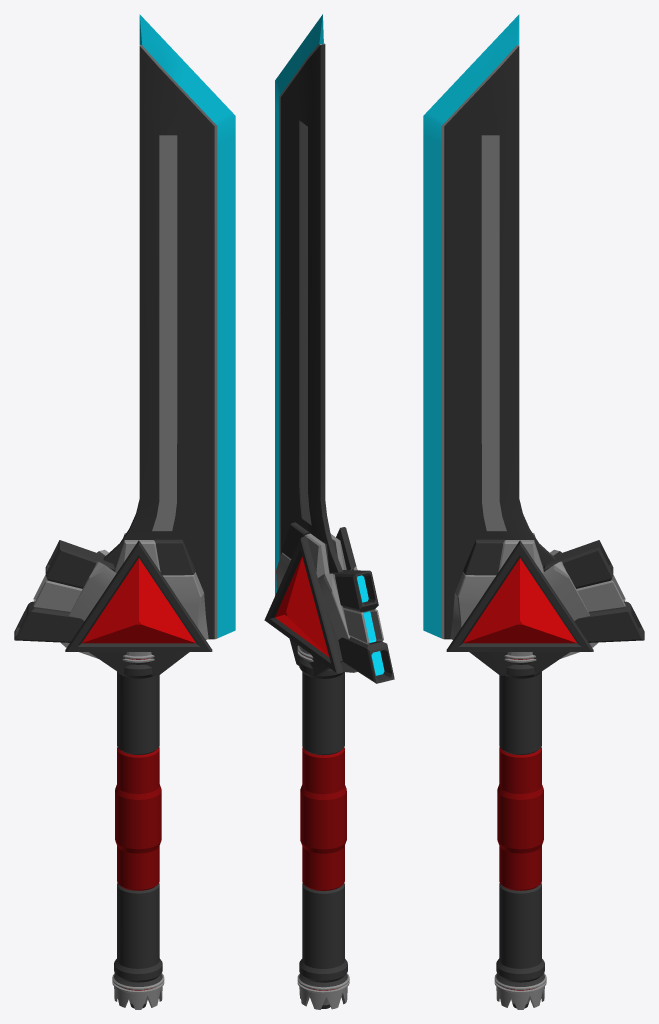
The model's file is Dominion Blade_Short.fbx.
The picture shows the model from 3 angles, left to right: view 1: azimuth 90°, elevation 25°; view 2: azimuth 210°, elevation 25°; view 3: azimuth 270°, elevation 25°; orthographic projection.
Visible parts, largest first — view 1: Cube.000, Cylinder.001; view 2: Cube.000, Cylinder.001; view 3: Cube.000, Cylinder.001.
Boxes of the visible parts, left/top/right/bottom form: Cube.000: left=14, top=14, right=235, bottom=675; Cylinder.001: left=112, top=652, right=164, bottom=1009; Cube.000: left=264, top=14, right=394, bottom=683; Cylinder.001: left=297, top=645, right=349, bottom=1009; Cube.000: left=423, top=14, right=644, bottom=675; Cylinder.001: left=494, top=652, right=546, bottom=1009.
Size of the model in its own units: 86.07 by 1097 by 222.
